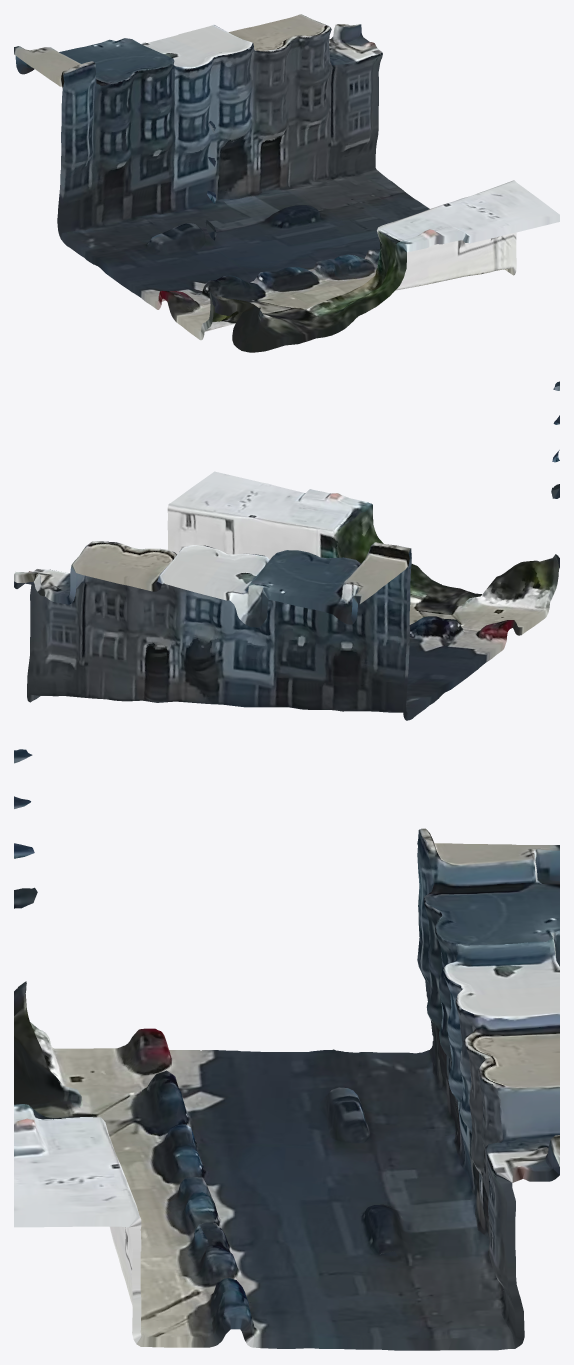
File: z20-167729-405195-h0-yup-uvflip-v3-world.glb
3 views of the same model, one above another, from view 1: azimuth 30°, elevation 25°; view 2: azimuth 150°, elevation 25°; view 3: azimuth 270°, elevation 25° (orthographic). The views are drawn at different scales.
Bounding box in the file's own units: 30.16 × 22.8 × 30.32.
1 material, 1 textured.
